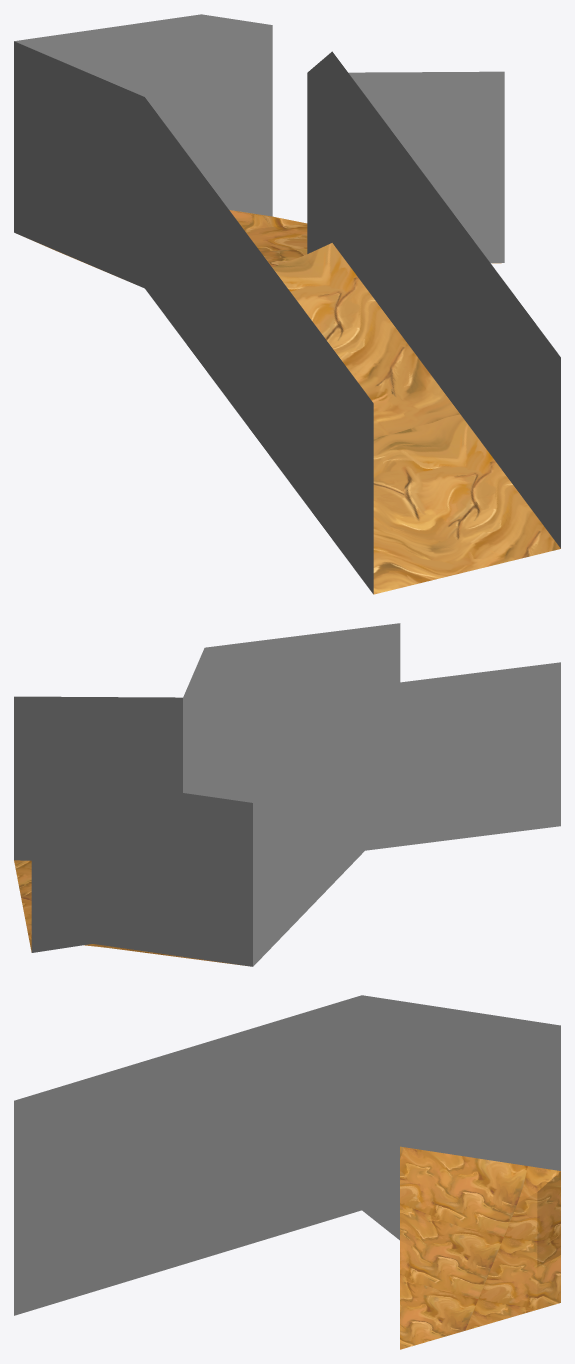
File: MudRamp2_1.fbx
3 views of the same model, one above another, from view 1: azimuth 30°, elevation 25°; view 2: azimuth 150°, elevation 25°; view 3: azimuth 270°, elevation 25° (orthographic). The views are drawn at different scales.
Parts seen in each view (by area): view 1: MudRamp2; view 2: MudRamp2; view 3: MudRamp2.
Part boxes in pixels (x1=…): MudRamp2: x1=14, y1=14, x2=560, y2=594; MudRamp2: x1=14, y1=623, x2=560, y2=966; MudRamp2: x1=14, y1=995, x2=560, y2=1349.
Bounding box in the file's own units: 3986 × 3267 × 6448.
